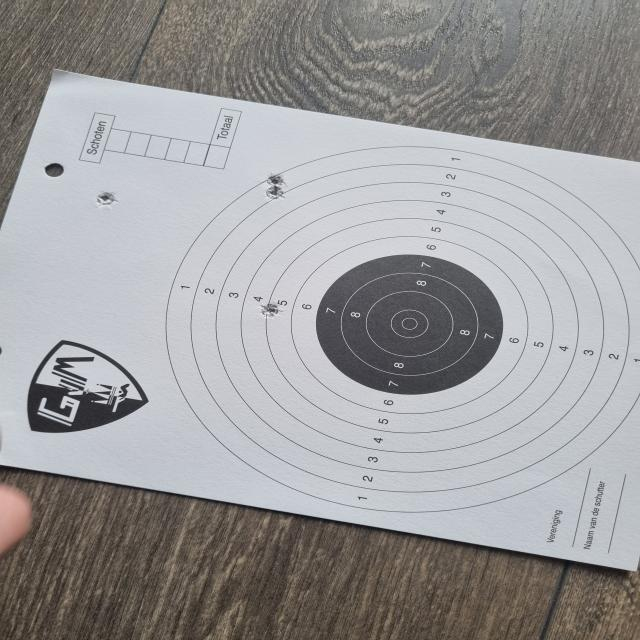0: (93, 192, 118, 209)
1: (264, 185, 290, 202), (263, 170, 288, 187)
5: (259, 303, 282, 318)
Target: (166, 145, 640, 513)
black_contour: (319, 254, 505, 396)
